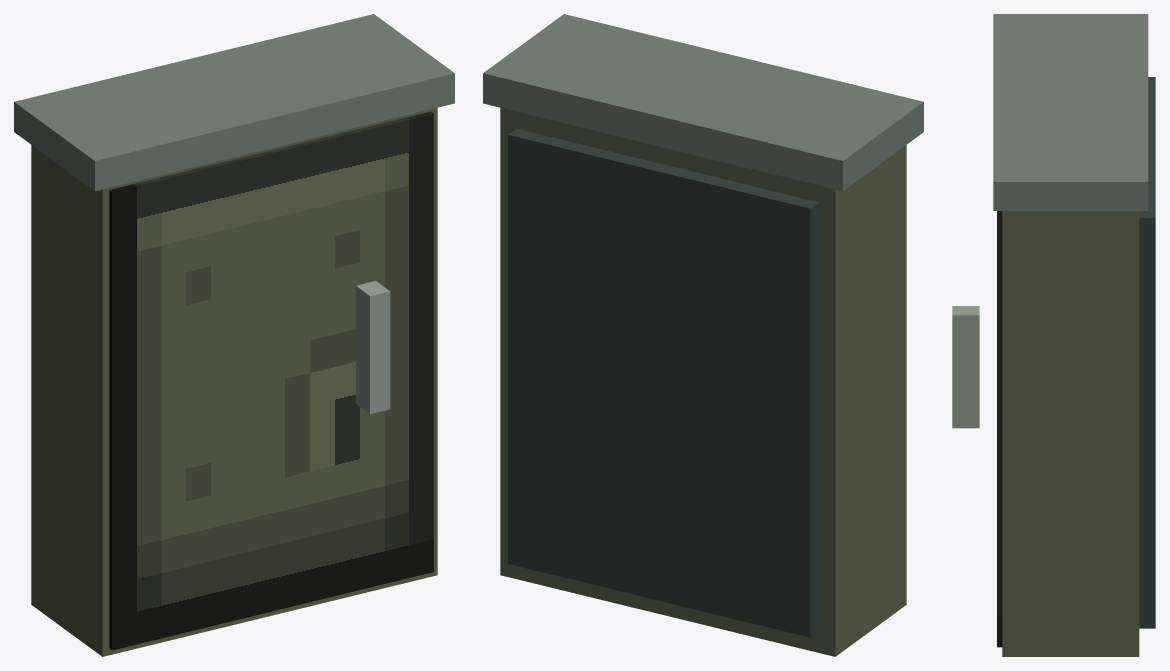
Rendered from CMU3DInteriorVehicleSPPTankSmallLockerAlt.glb.
3 views of the same model, side by side, from view 1: azimuth 30°, elevation 25°; view 2: azimuth 150°, elevation 25°; view 3: azimuth 270°, elevation 25° (orthographic). The views are drawn at different scales.
Visible parts, largest first — view 1: source equipment controls, reinforced top, closed equipment casing, door handle; view 2: rear service plate, closed equipment casing, reinforced top; view 3: closed equipment casing, reinforced top, rear service plate, door handle, source equipment controls.
Part boxes in pixels (left/top/right/bottom): source equipment controls: left=109, top=111, right=433, bottom=650; reinforced top: left=14, top=14, right=454, bottom=191; closed equipment casing: left=31, top=108, right=437, bottom=656; door handle: left=356, top=281, right=390, bottom=414; rear service plate: left=508, top=128, right=818, bottom=637; closed equipment casing: left=500, top=108, right=906, bottom=656; reinforced top: left=483, top=14, right=923, bottom=191; closed equipment casing: left=1002, top=211, right=1139, bottom=656; reinforced top: left=993, top=14, right=1148, bottom=210; rear service plate: left=1139, top=77, right=1155, bottom=628; door handle: left=952, top=306, right=979, bottom=428; source equipment controls: left=997, top=211, right=1002, bottom=647.
Size of the model in its own units: 0.4363 by 0.5819 by 0.223.
Materials: 5 (1 with a texture image).
